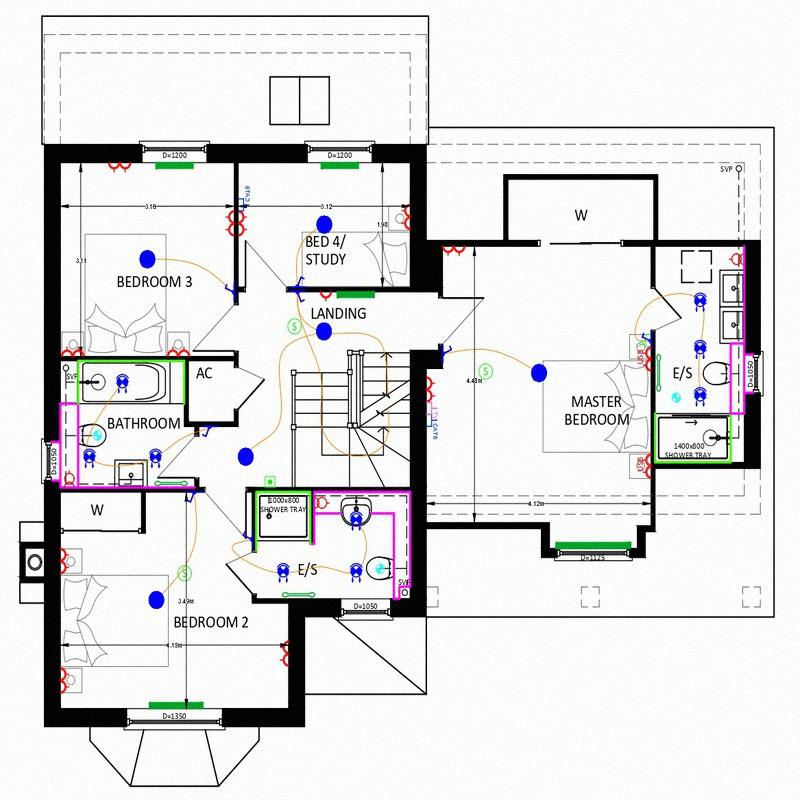Cat 6 Data Socket: (238, 185, 251, 211), (427, 414, 438, 440)
Ceiling Mounted Continuous Extract FanWith Boost Mode Activated By Light Switch: (93, 430, 102, 440), (671, 393, 681, 402), (376, 564, 385, 574)
Co-Ax TV Socket: (427, 402, 438, 418)
Double Socket: (225, 210, 234, 236), (427, 376, 436, 402), (108, 163, 131, 173), (443, 246, 465, 256), (62, 346, 83, 356), (280, 641, 288, 667), (401, 206, 410, 229), (61, 549, 69, 574), (61, 668, 69, 693), (167, 347, 189, 356), (239, 212, 247, 236)
Full Height Tiling: (77, 360, 185, 404), (654, 414, 732, 463), (255, 491, 312, 552)
Light Switch: (202, 426, 212, 437), (294, 276, 305, 286), (295, 292, 305, 303), (443, 345, 452, 357), (224, 283, 233, 294), (641, 333, 650, 344), (242, 532, 252, 541)
Low Energy Downlighter: (693, 387, 707, 407), (116, 373, 129, 394), (694, 292, 707, 313), (694, 339, 707, 360), (83, 448, 96, 468), (149, 448, 162, 468), (350, 511, 363, 531), (350, 563, 363, 583), (277, 563, 290, 583)
Low Energy Pendant Light: (139, 250, 156, 269), (237, 447, 254, 466), (316, 216, 333, 234), (531, 363, 547, 382), (149, 591, 165, 609), (316, 323, 332, 340)
Mains Wired Smoke Detector: (478, 363, 493, 380), (178, 566, 192, 581)
Programmable Room Thermostat: (265, 476, 276, 487)
Radiator: (555, 542, 631, 549), (149, 702, 204, 709), (336, 291, 375, 299), (156, 163, 194, 169), (321, 163, 359, 169)
Shaver Socket: (64, 470, 76, 487), (728, 253, 743, 266), (314, 497, 330, 509)
Single Socket: (320, 292, 332, 302)
USB Double Socket: (636, 454, 651, 478), (637, 347, 651, 371)
